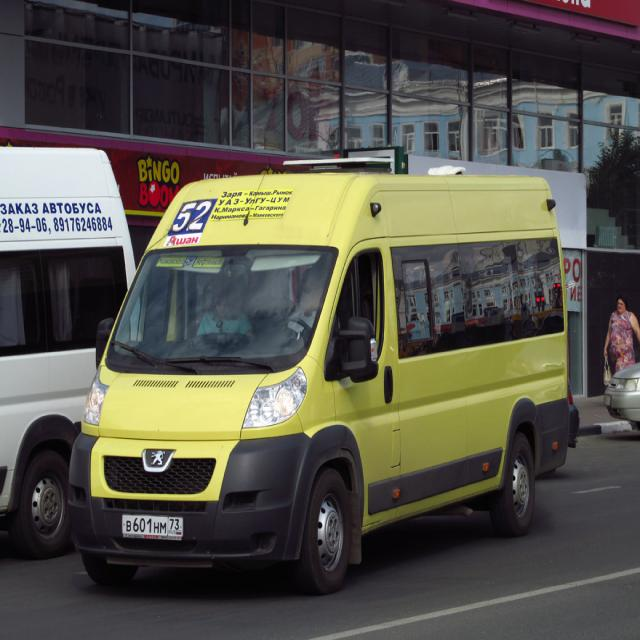number-of-bus: (170, 202, 214, 235)
